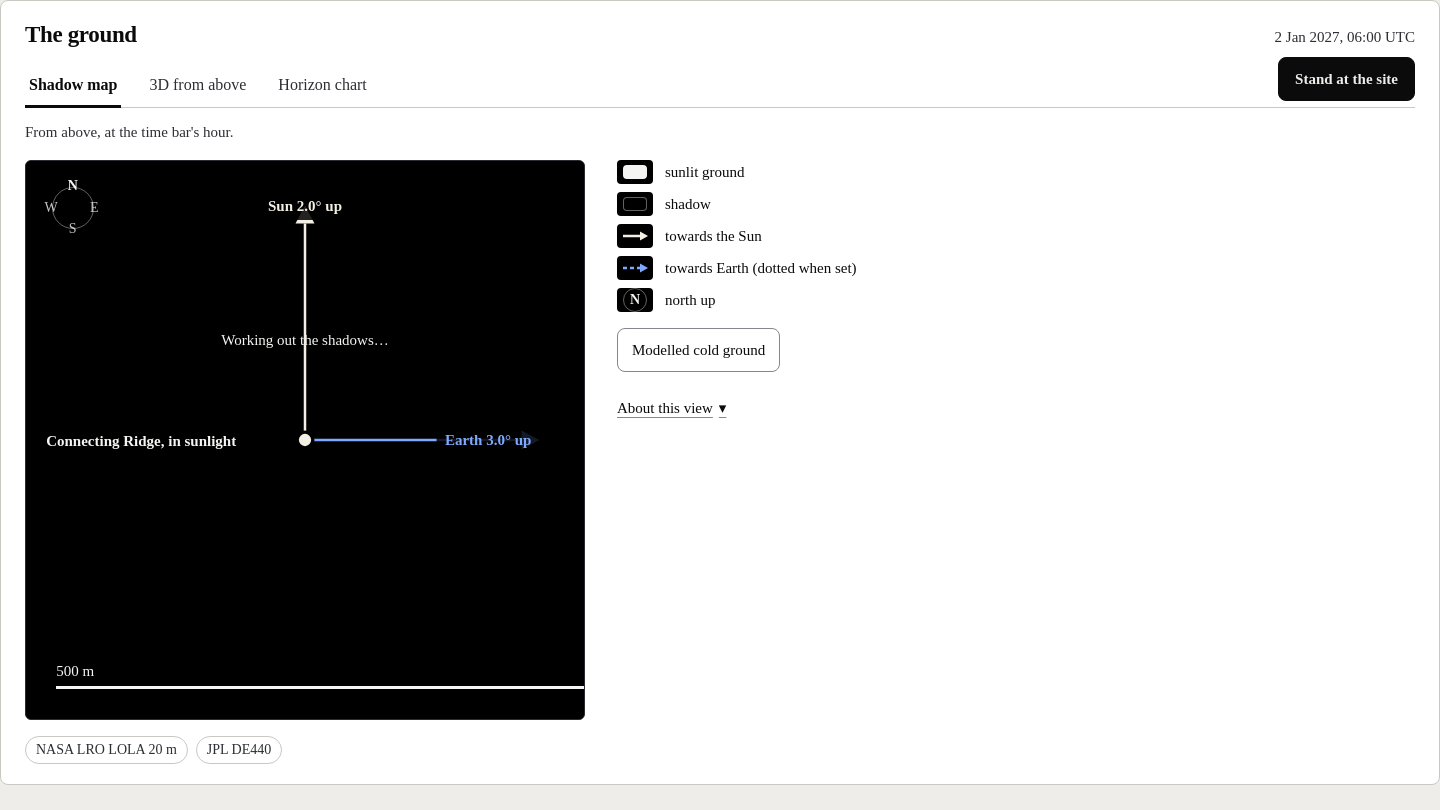
Test: the shadow map’s layer of modelled cold ground › draws the layer once switched on, with its line in the map’s key and what it is in About this view
The image size is (1440, 810).
Later steps or results of the test are not shown.
Step 1. Click the button "Modelled cold ground" → (699, 350), box x1=617 y1=328 x2=780 y2=372
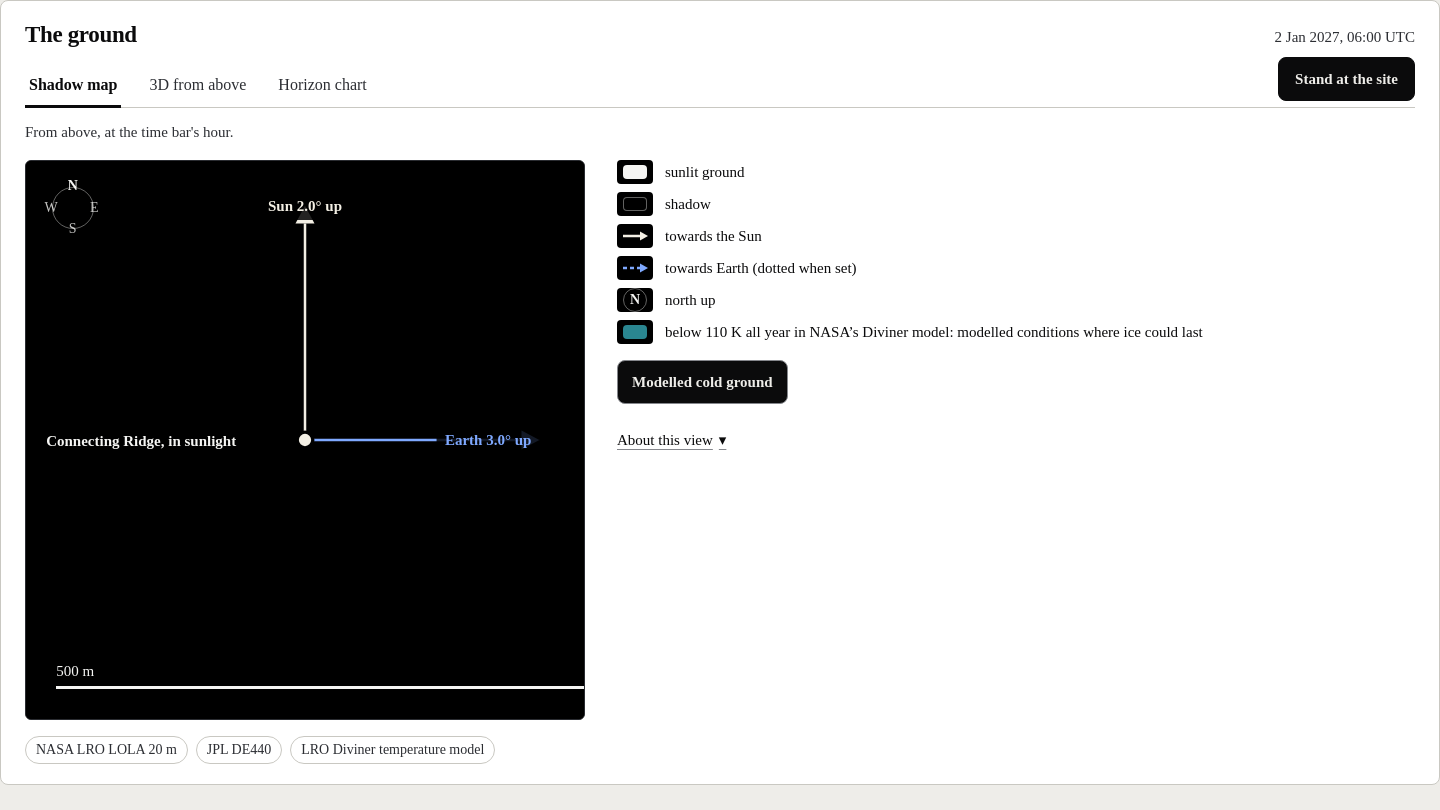
Check: the list named "How to read the map" shows "below 110 K all year in NASA’s Diviner model: modelled conditions where ice could last", box x1=665 y1=324 x2=1203 y2=340
Step 2. Click the button "Modelled cold ground" → (702, 382), box x1=617 y1=360 x2=788 y2=404
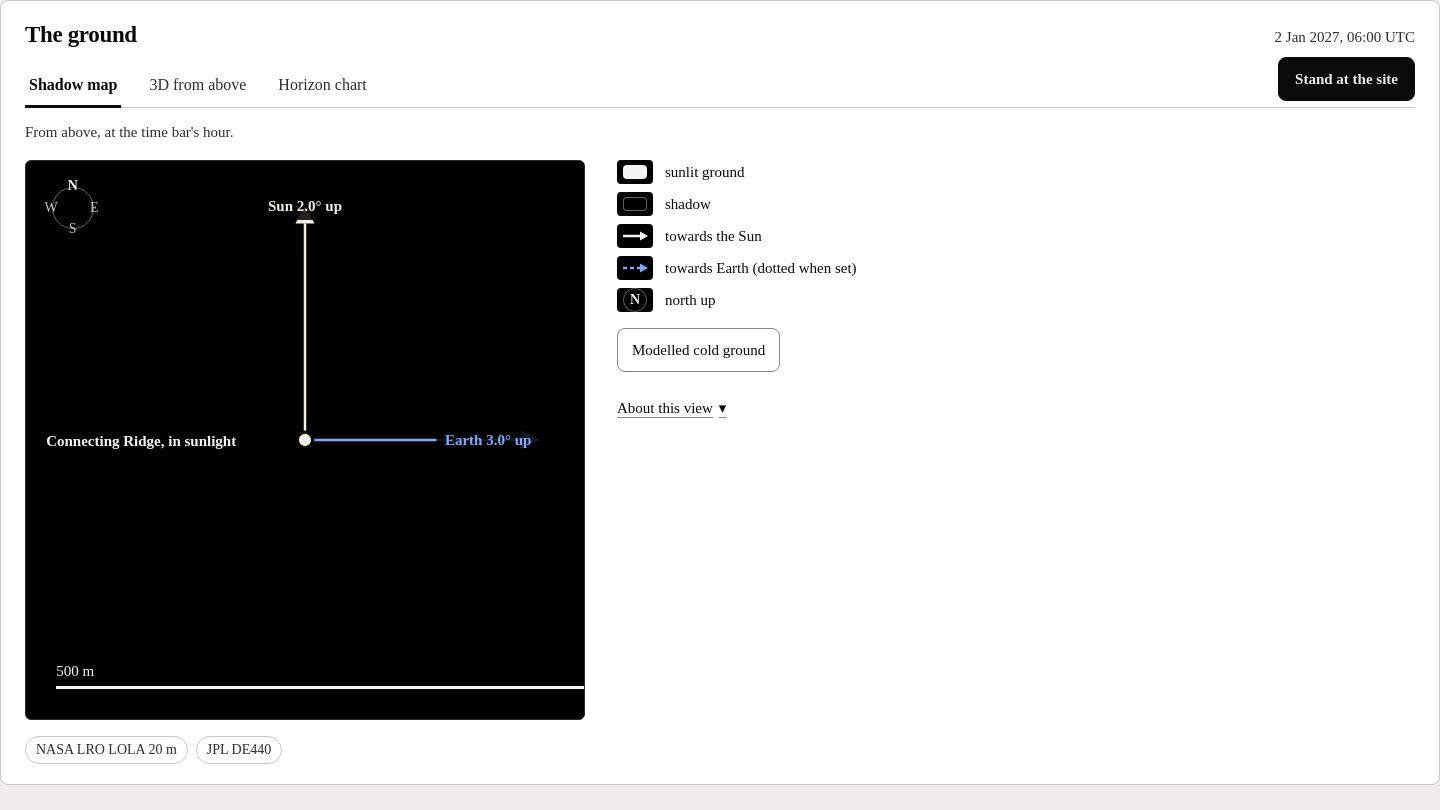
Check: the text "How to read the map" no longer shows "Diviner"
